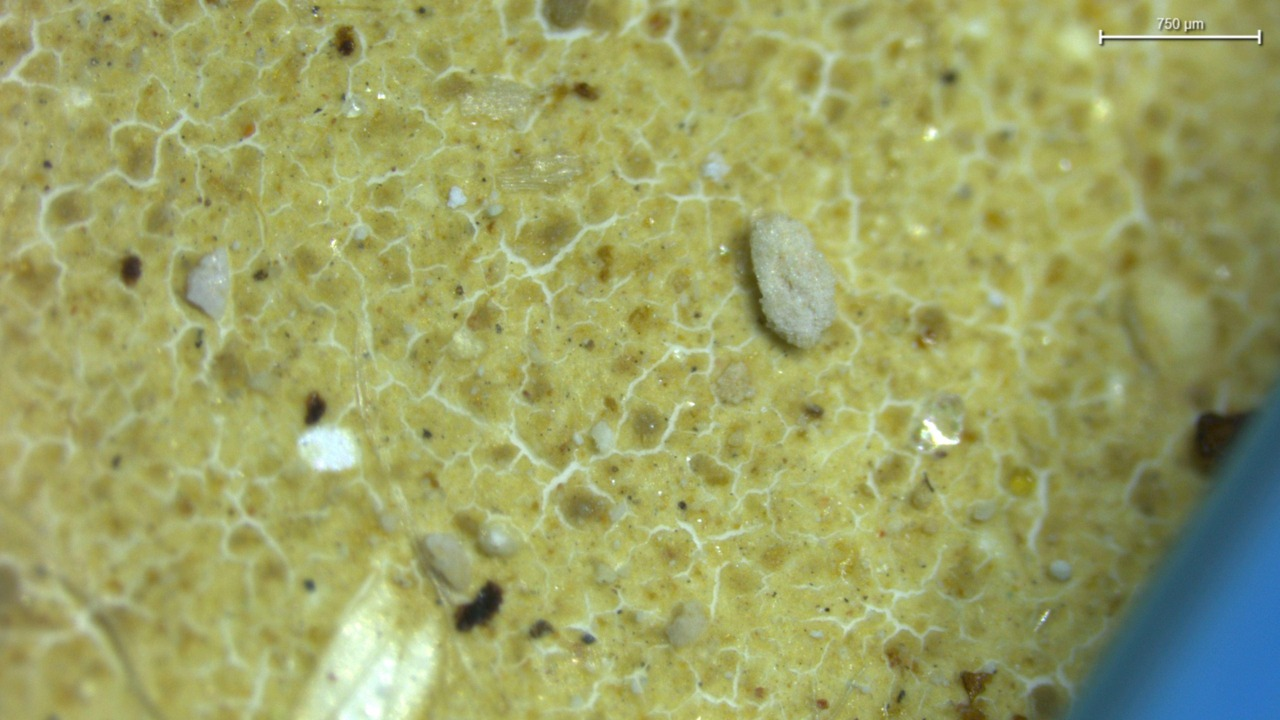microplastic_fragment: (749, 213, 835, 348), (186, 248, 230, 319)
